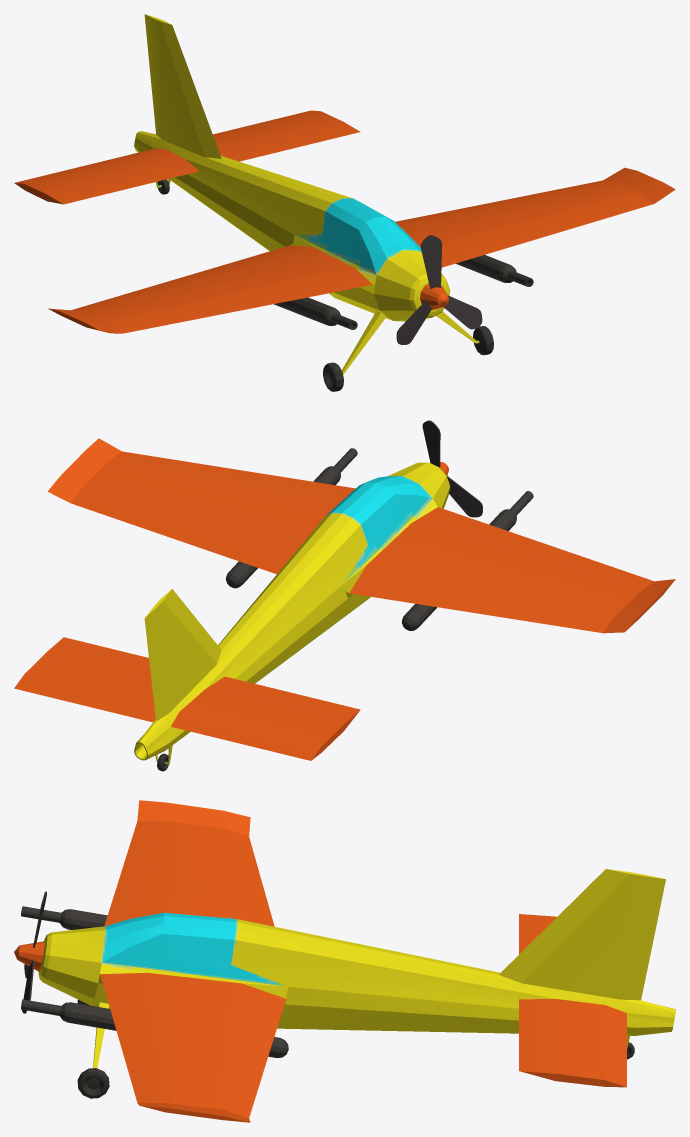
The picture shows the model from 3 angles, top to bottom: view 1: azimuth 30°, elevation 25°; view 2: azimuth 150°, elevation 25°; view 3: azimuth 270°, elevation 25°; orthographic projection. The views are drawn at different scales.
Parts seen in each view (by area): view 1: Plane1, Motor; view 2: Plane1, Motor; view 3: Plane1, Motor.
Part boxes in pixels (box(x1,y1,x2,y2)): Plane1: box(14, 14, 675, 391); Motor: box(396, 235, 482, 344); Plane1: box(14, 438, 675, 771); Motor: box(422, 420, 482, 517); Plane1: box(21, 800, 675, 1122); Motor: box(14, 891, 46, 1013).
Size of the model in its own units: 708 by 205 by 648.
1 material, 1 textured.
